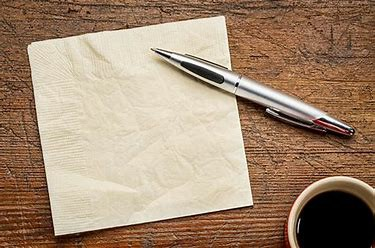pen: (152, 42, 359, 147)
